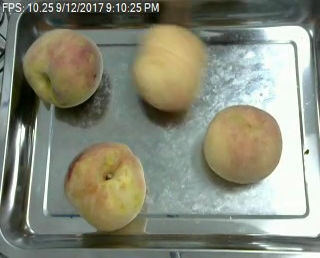Peach: (64, 141, 146, 233), (22, 27, 104, 109), (202, 104, 283, 183), (132, 25, 203, 110)
